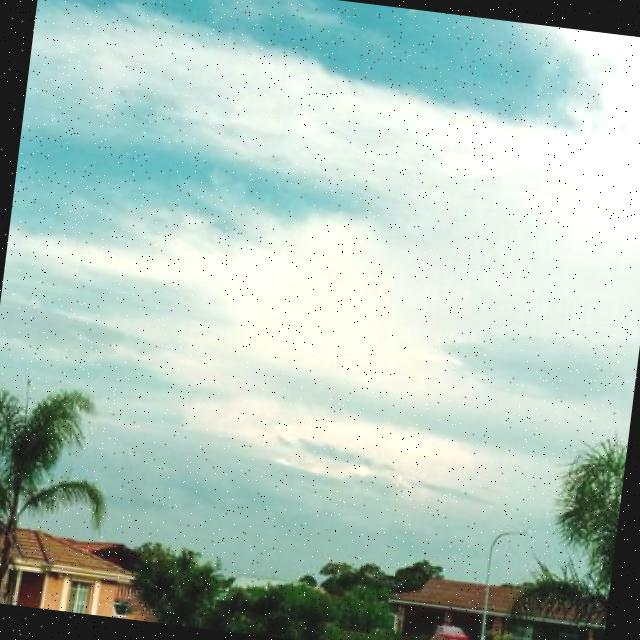Cs: (1, 1, 640, 414)
